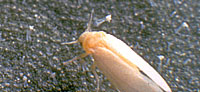whitefly: (63, 10, 171, 92)
